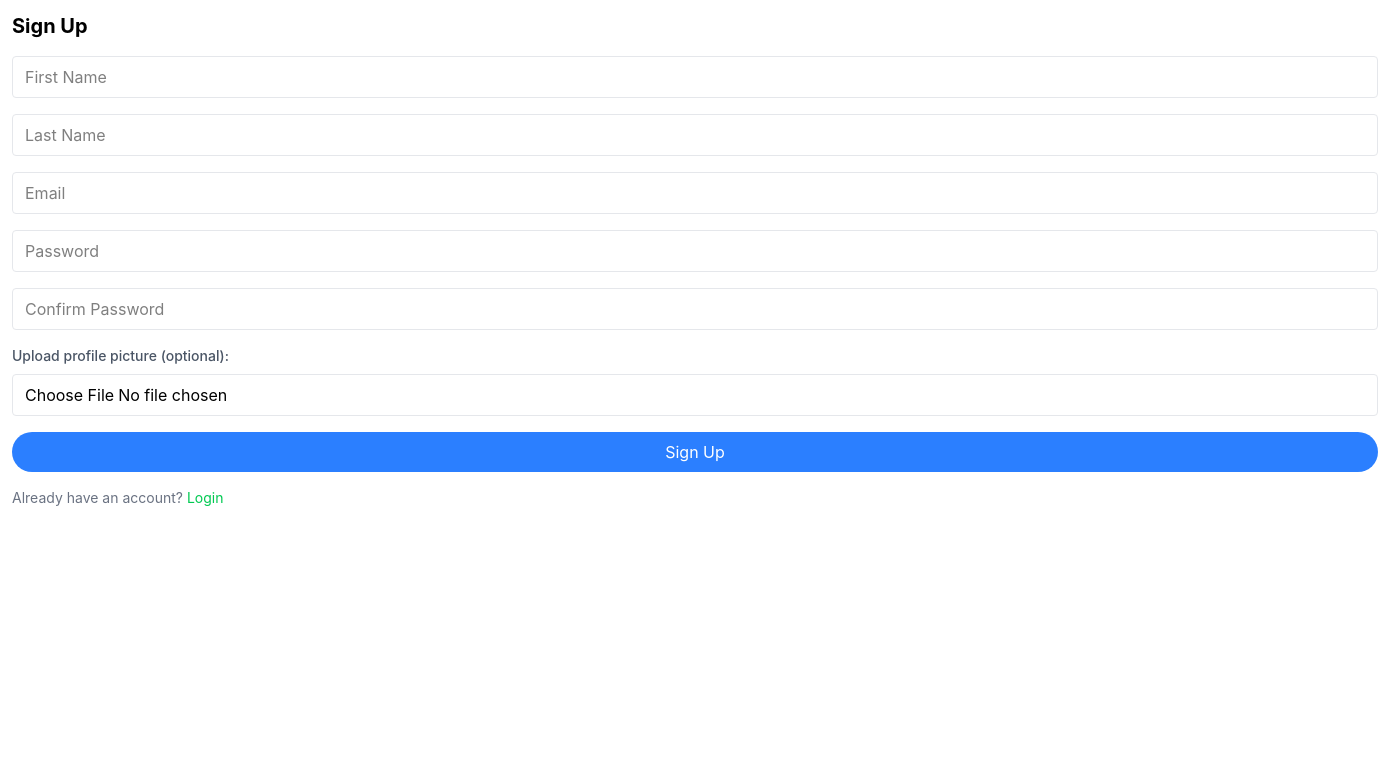
Test case: SignupForm › shows a generic error message when signup fails with a non-Error value
The image size is (1390, 780).
Type "Jane" into the field with placeholder "First Name". click: (695, 77)
box: [12, 56, 1378, 98]
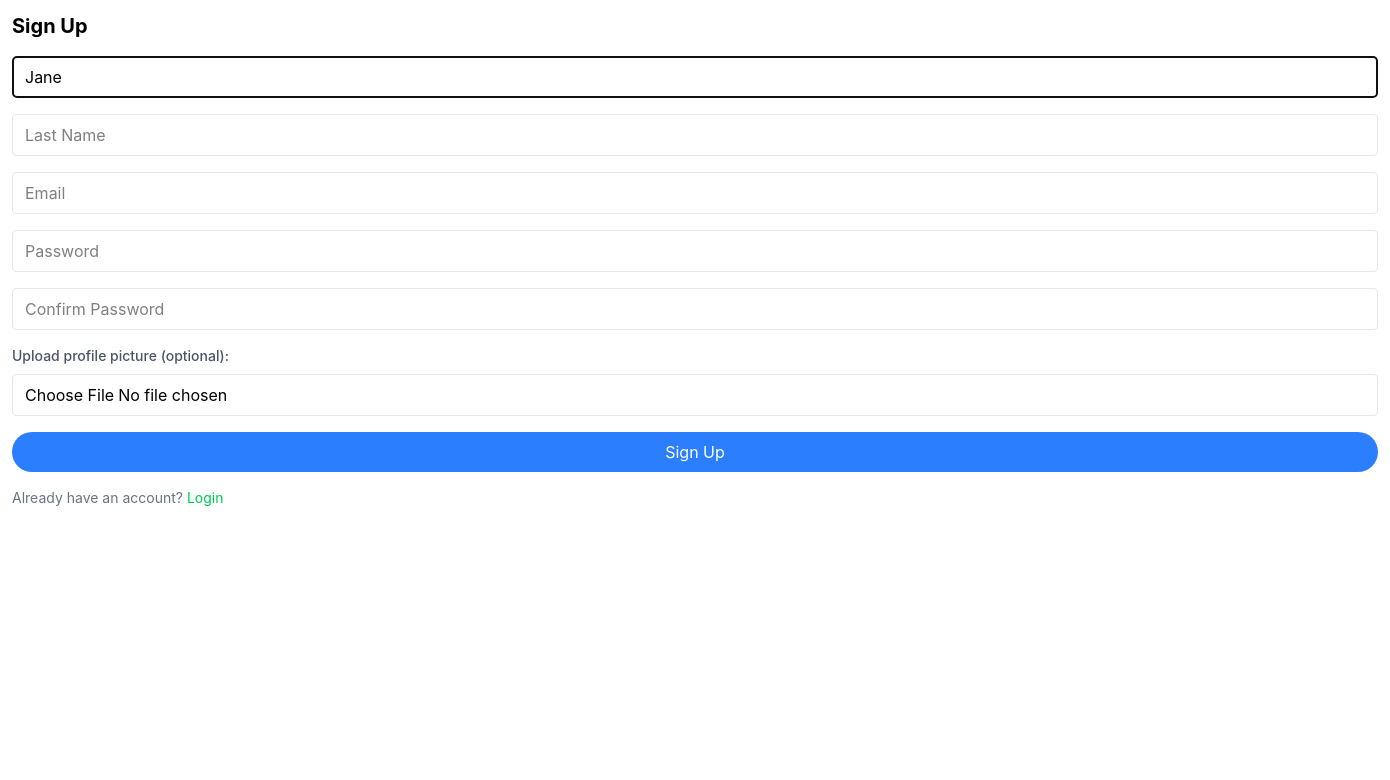
Type "Doe" into the field with placeholder "Last Name". click: (695, 135)
box: [12, 114, 1378, 156]
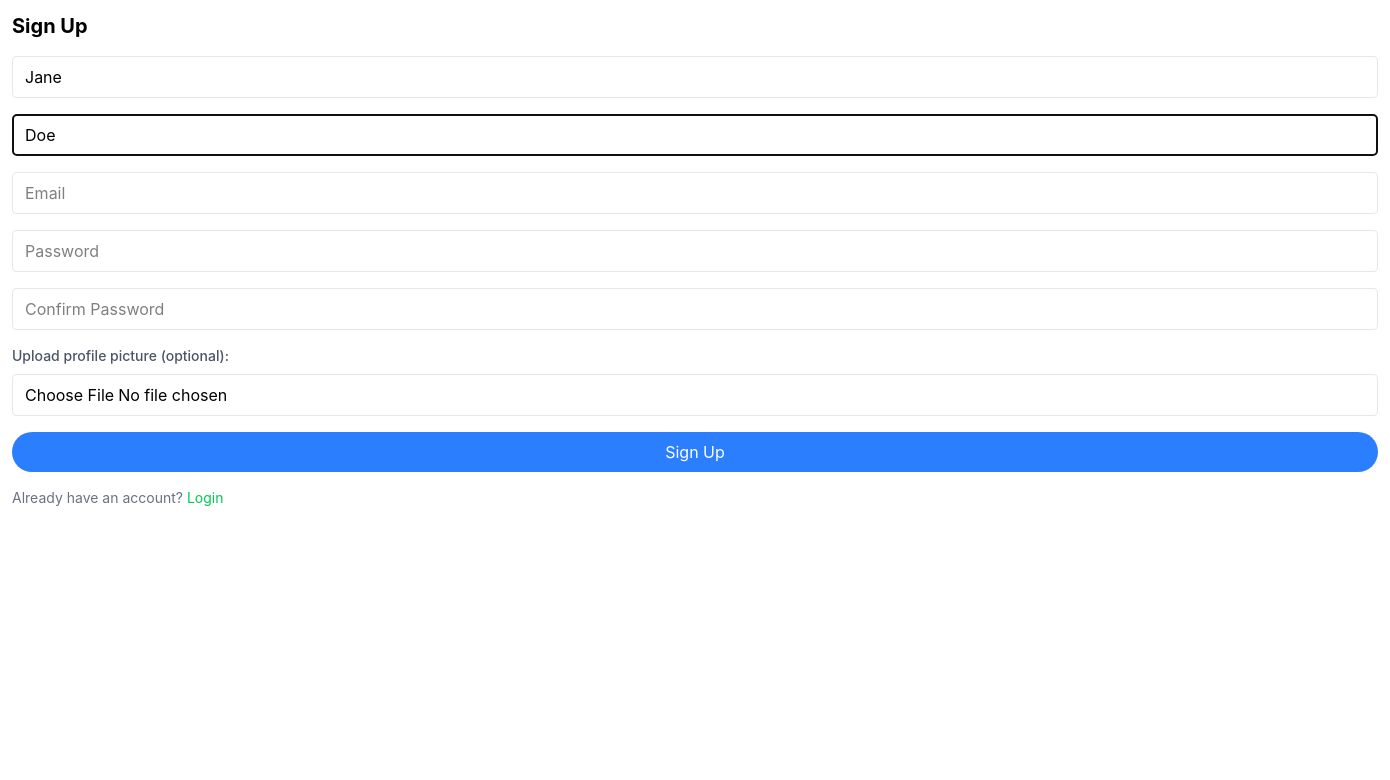
Type "jane@example.com" into the field with placeholder "Email". click: (695, 193)
box: [12, 172, 1378, 214]
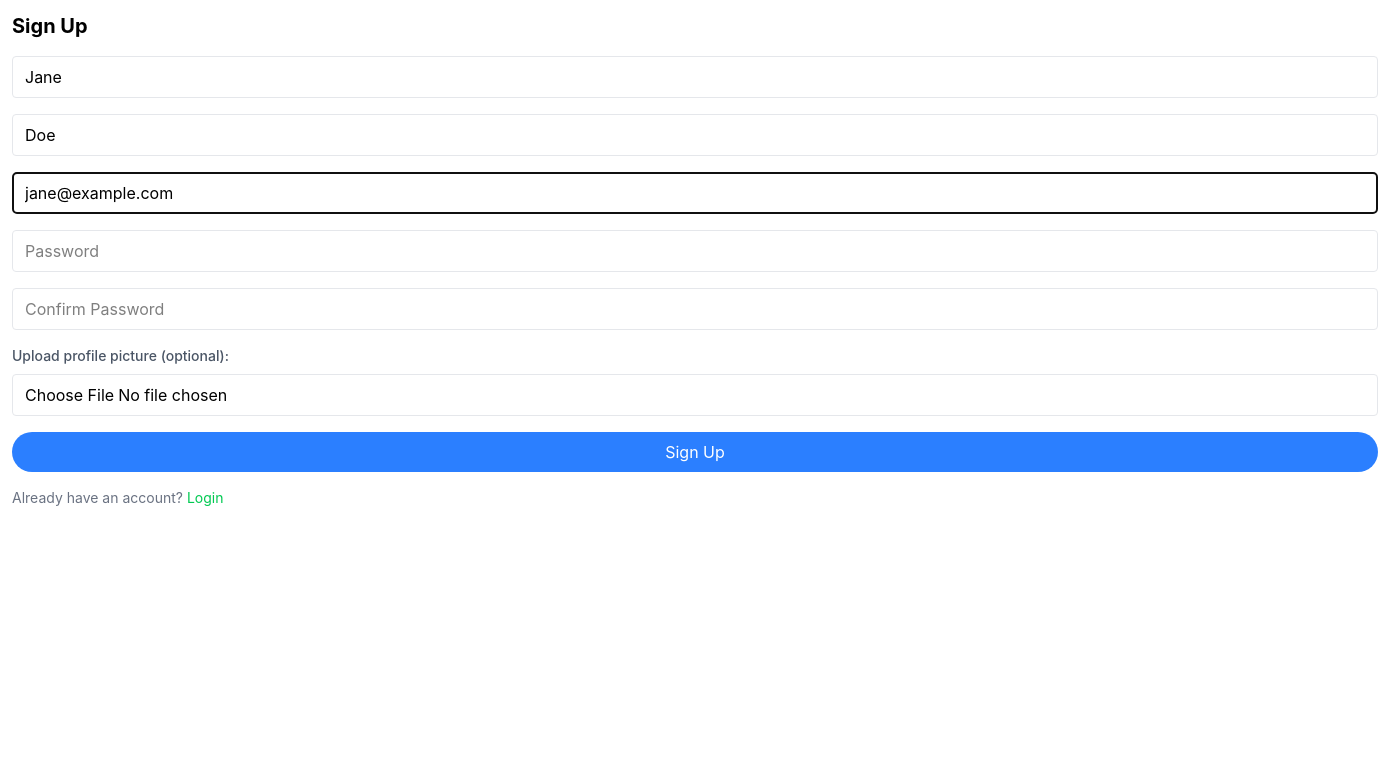
Type "secret123" into the password field with placeholder "Password". click: (695, 251)
box: [12, 230, 1378, 272]
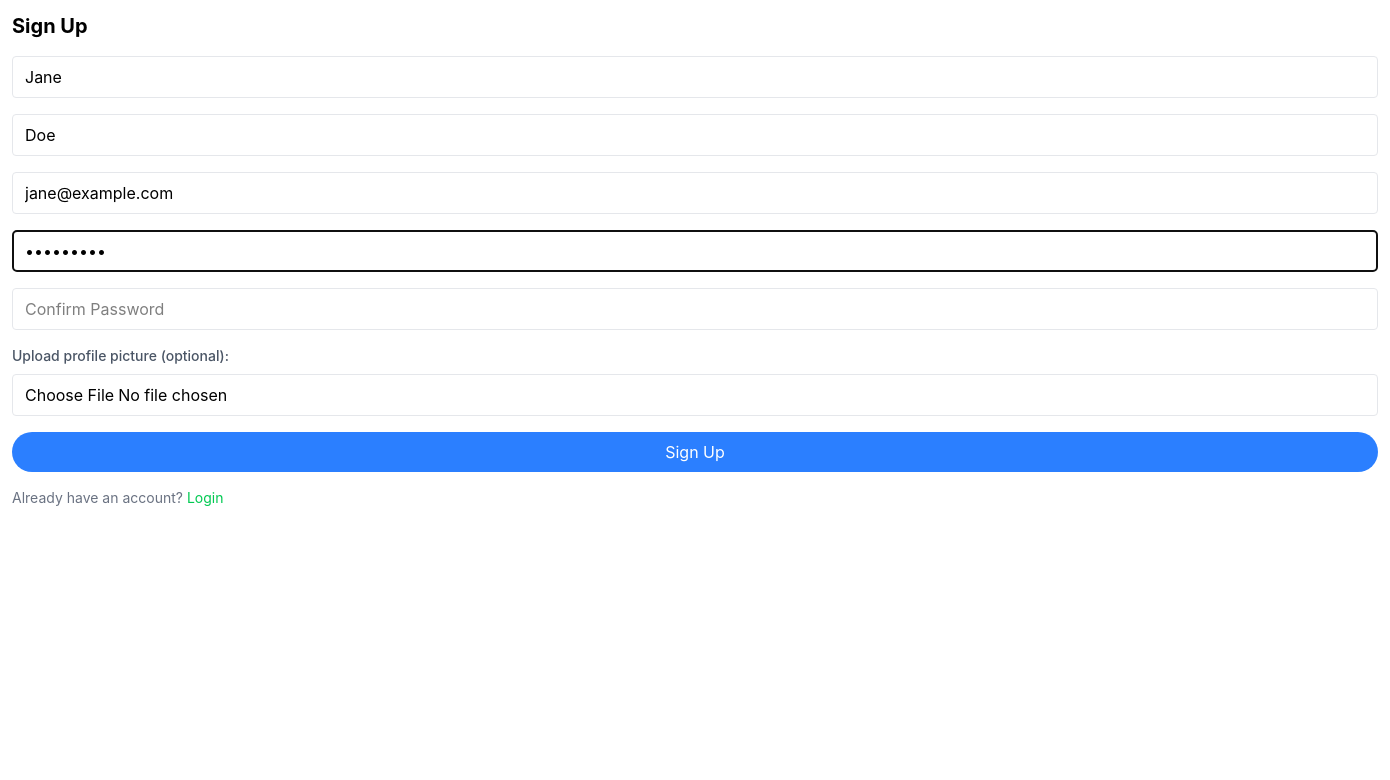
Type "secret123" into the password field with placeholder "Confirm Password". click: (695, 309)
box: [12, 288, 1378, 330]
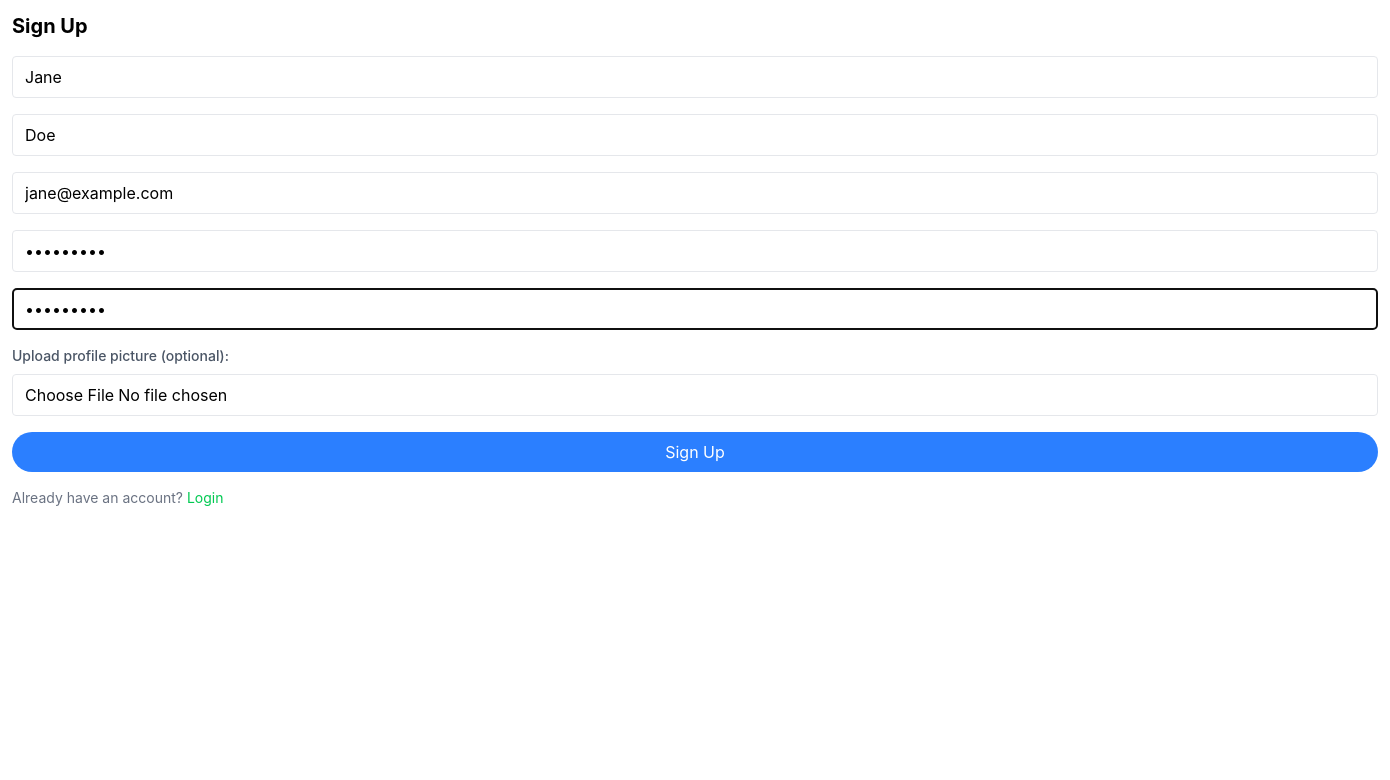
Click the button "Sign Up". click: (695, 452)
box: [12, 432, 1378, 472]
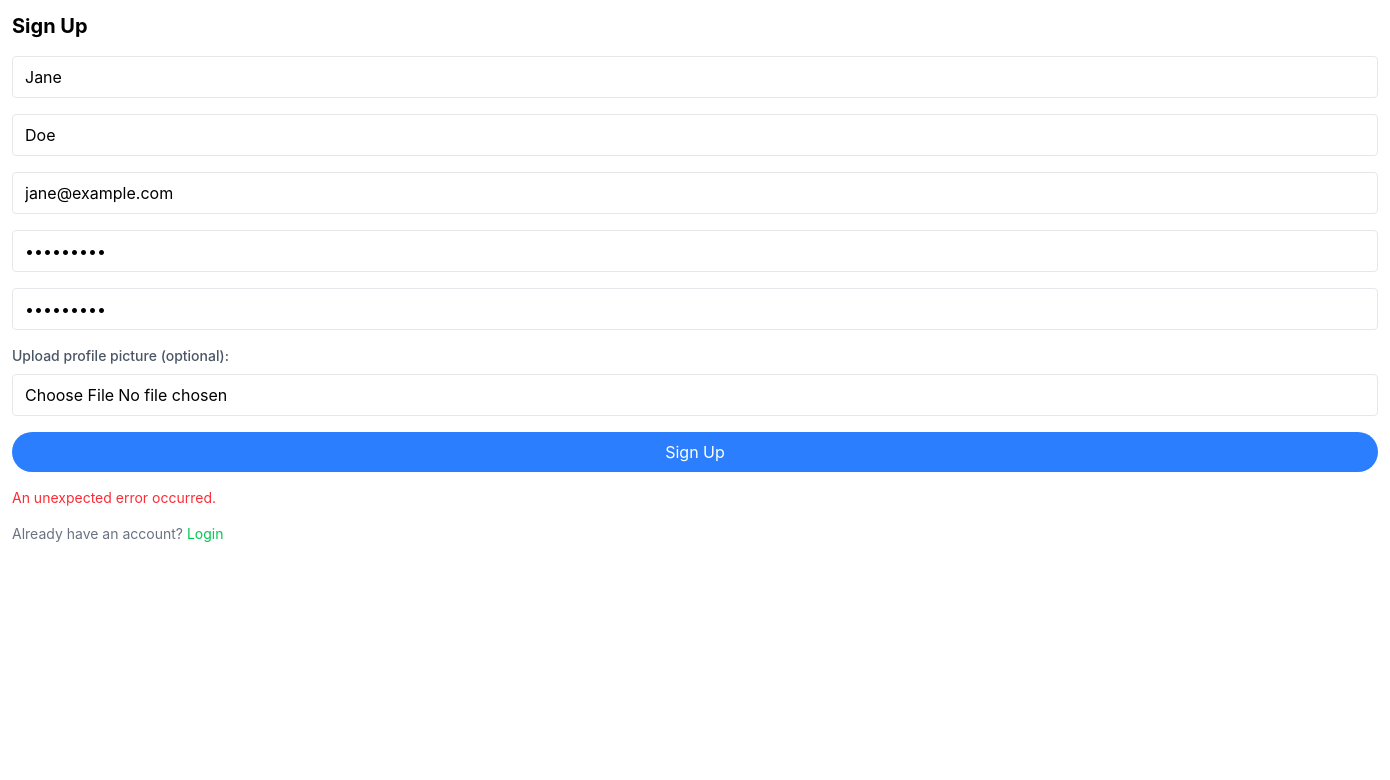
Expected: the text "An unexpected error occurred." is shown, [12, 489, 216, 506]
